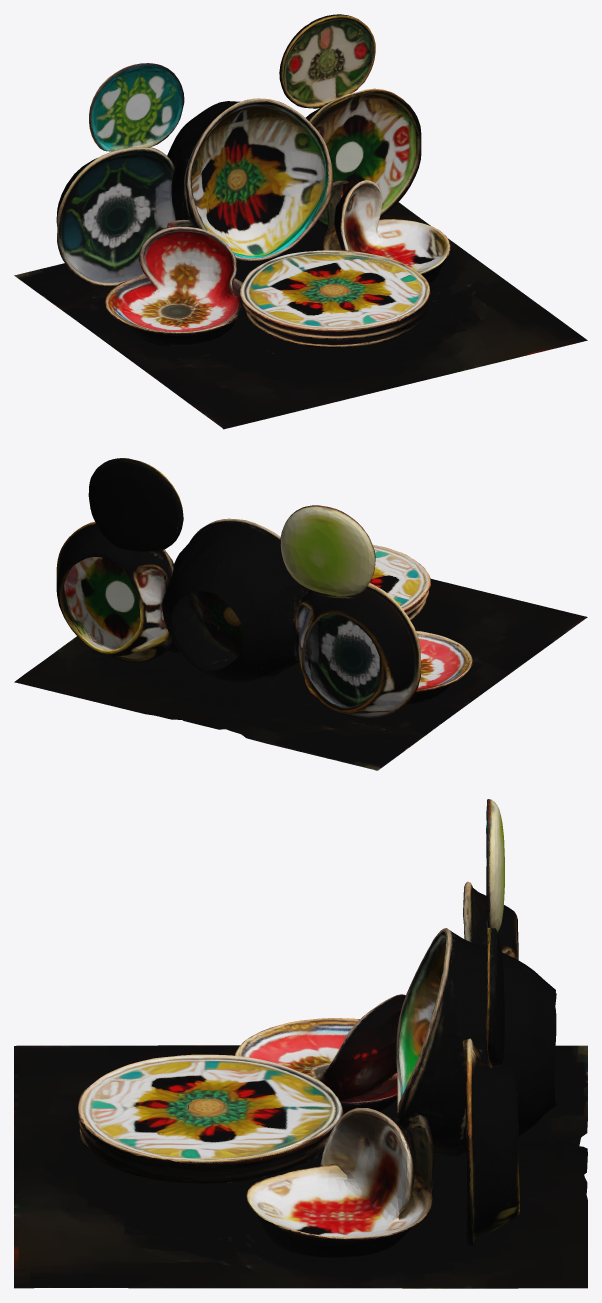
The model's file is porcelain-plate-set-art-deco.jpeg.glb.
The picture shows the model from 3 angles, top to bottom: view 1: azimuth 30°, elevation 25°; view 2: azimuth 150°, elevation 25°; view 3: azimuth 270°, elevation 25°; orthographic projection. The views are drawn at different scales.
Parts seen in each view (by area): view 1: world; view 2: world; view 3: world.
Part boxes in pixels (x1,y1,x2,y2): world: (14, 14, 587, 429); world: (14, 458, 587, 770); world: (14, 799, 587, 1288).
Size of the model in its own units: 1 by 0.5718 by 1.
Materials: 1 (1 with a texture image).
